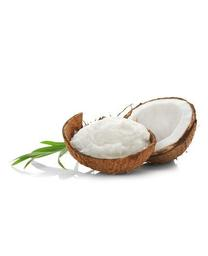coconut: (62, 112, 157, 176), (120, 96, 197, 165)
